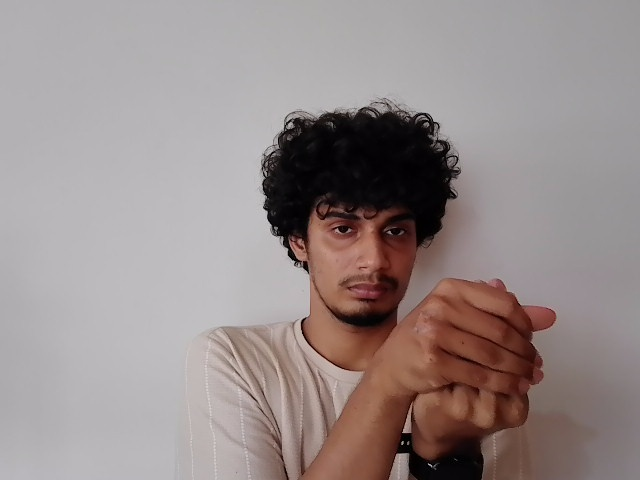with: (395, 277, 582, 434)
